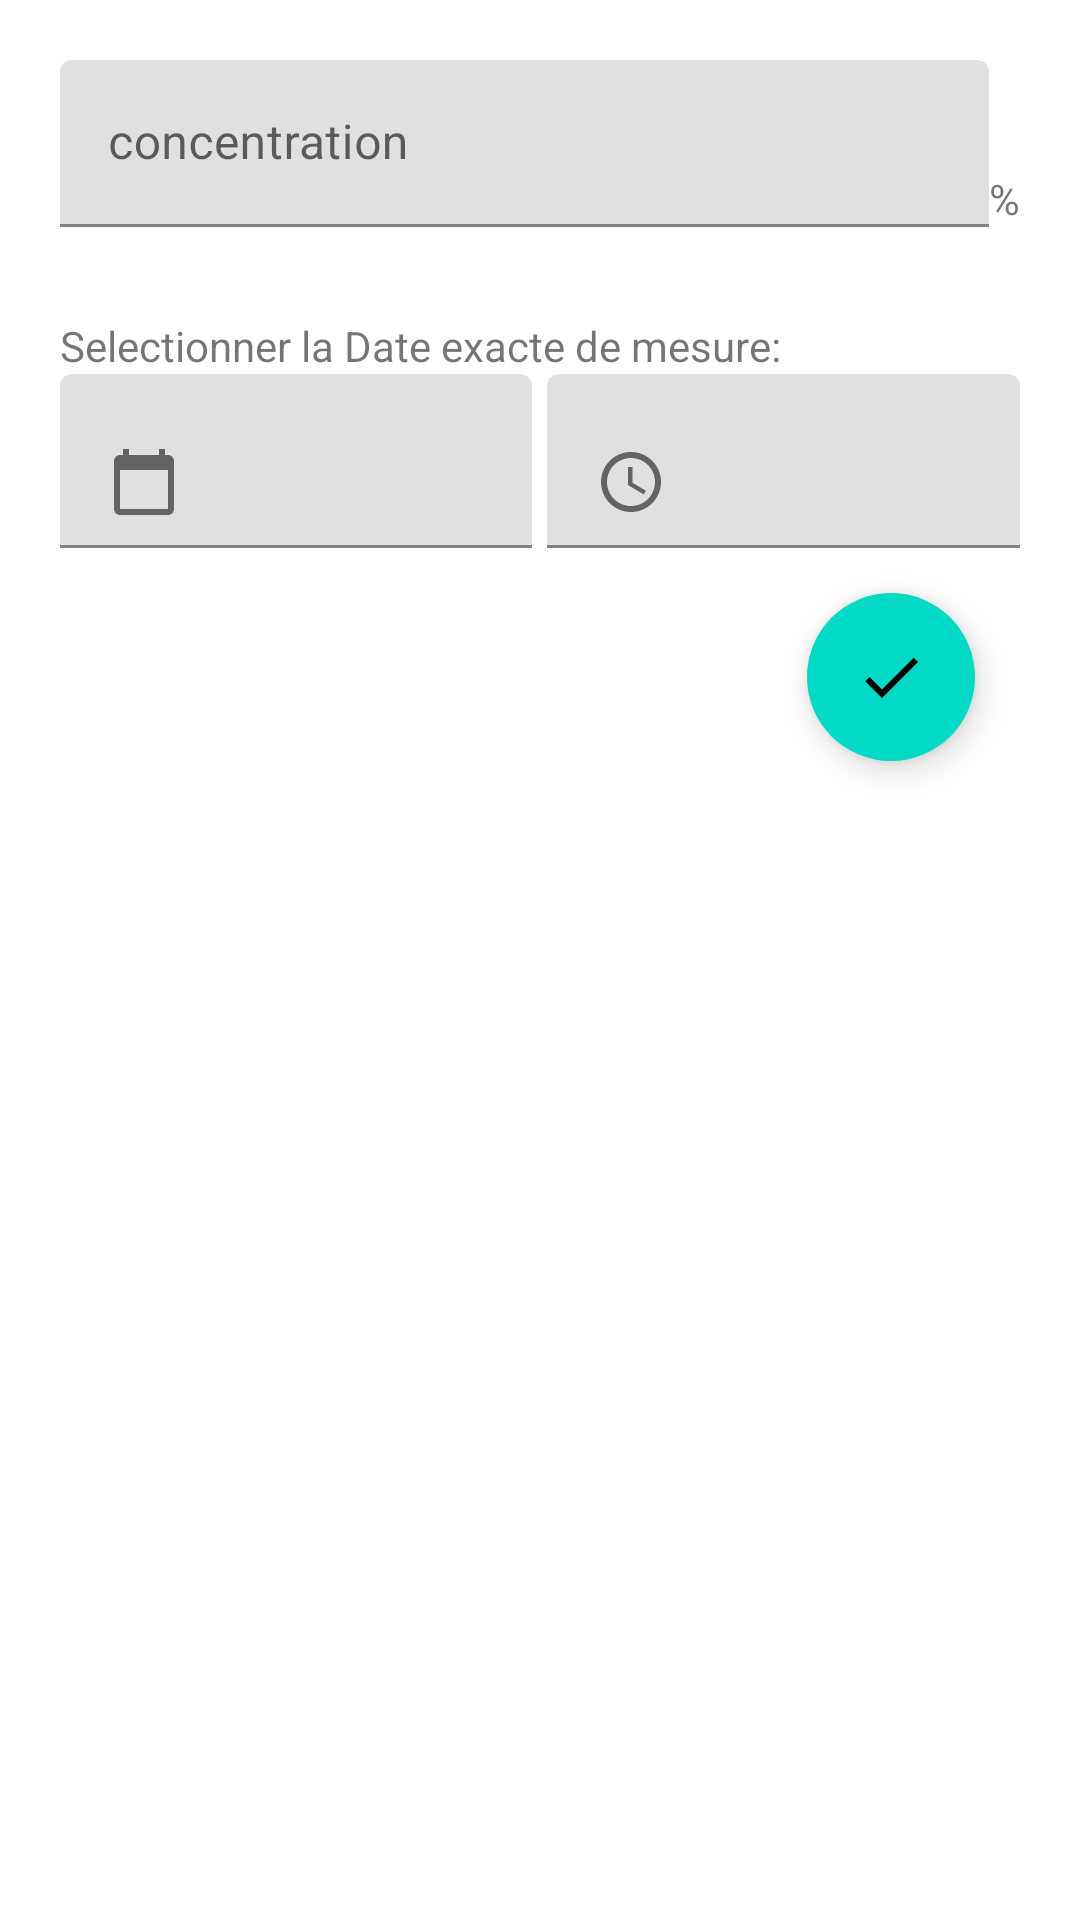

Locate icon controls on the screen. Image size 1080*1920, boxes as region(x1, y1, x2, y2).
check: region(807, 593, 975, 761)
